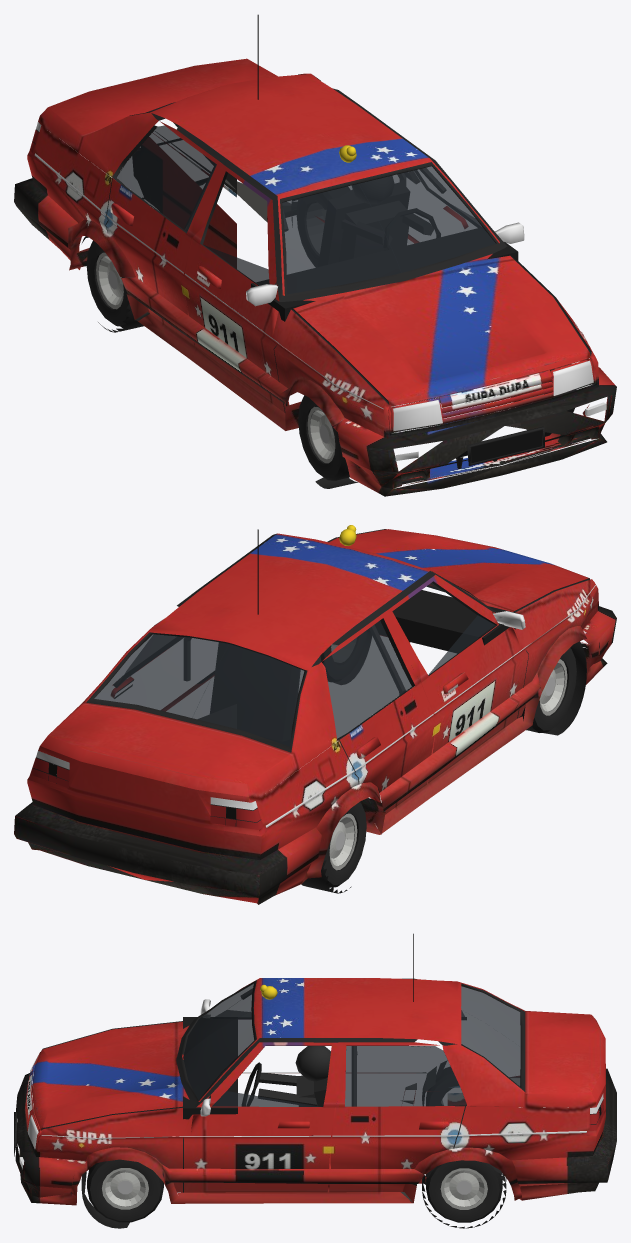
The picture shows the model from 3 angles, top to bottom: view 1: azimuth 30°, elevation 25°; view 2: azimuth 150°, elevation 25°; view 3: azimuth 270°, elevation 25°; orthographic projection. The views are drawn at different scales.
Visible parts, largest first — view 1: body, wheel_fr, wheel_rr, wheel_rl; view 2: body, wheel_rr, wheel_fr, wheel_fl; view 3: body, wheel_rl, wheel_fl, wheel_rr.
Boxes of the visible parts, x1,y1,x2,y2 form: body: (14,14,616,496); wheel_fr: (298,395,349,480); wheel_rr: (86,240,130,326); wheel_rl: (297,186,350,267); body: (14,525,616,904); wheel_rr: (322,802,366,887); wheel_fr: (519,647,576,732); wheel_fl: (320,631,366,681); body: (14,933,616,1228); wheel_rl: (426,1160,502,1222); wheel_fl: (87,1159,163,1222); wheel_rr: (426,1067,458,1105).
Size of the model in its own units: 1.86 by 1.99 by 4.4.
2 materials, 1 textured.
